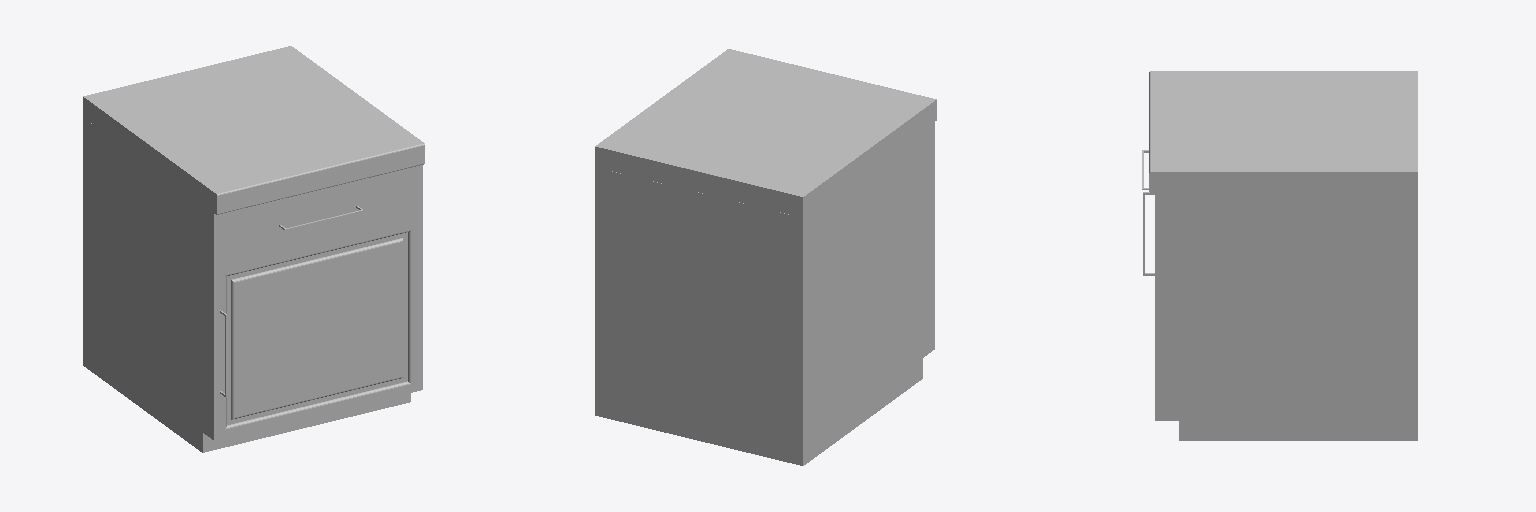
The model's file is Counter.obj.
The picture shows the model from 3 angles: view 1: azimuth 30°, elevation 25°; view 2: azimuth 150°, elevation 25°; view 3: azimuth 270°, elevation 25°; orthographic projection.
Visible parts, largest first — view 1: KitchenModular:Cabinet_Door4Cabinet, Cabinet, KitchenModular:CabinetKitchencabinet, KitchenModular:CabinetDrawDraw_door, KitchenModular:CabinetKitchencabinet2; view 2: KitchenModular:CabinetInsideCabinet3, Cabinet, KitchenModular:CabinetKitchencabinet, KitchenModular:CabinetKitchencabinet2; view 3: KitchenModular:CabinetKitchencabinet1, Cabinet, KitchenModular:CabinetKitchencabinet2, KitchenModular:CabinetInsideCabinet3, KitchenModular:Cabinet_Door4Cabinet.
Boxes of the visible parts, <box> form: KitchenModular:Cabinet_Door4Cabinet: <box>212,219,422,440</box>; Cabinet: <box>83,46,424,214</box>; KitchenModular:CabinetKitchencabinet: <box>85,119,211,438</box>; KitchenModular:CabinetDrawDraw_door: <box>212,165,422,269</box>; KitchenModular:CabinetKitchencabinet2: <box>85,347,410,452</box>; KitchenModular:CabinetInsideCabinet3: <box>595,167,805,465</box>; Cabinet: <box>595,49,936,217</box>; KitchenModular:CabinetKitchencabinet: <box>806,124,931,442</box>; KitchenModular:CabinetKitchencabinet2: <box>806,358,922,463</box>; KitchenModular:CabinetKitchencabinet1: <box>1160,193,1412,420</box>; Cabinet: <box>1149,71,1417,192</box>; KitchenModular:CabinetKitchencabinet2: <box>1179,421,1412,440</box>; KitchenModular:CabinetInsideCabinet3: <box>1413,193,1417,440</box>; KitchenModular:Cabinet_Door4Cabinet: <box>1155,249,1159,420</box>.
Bounding box in the file's own units: 4.12 × 5.09 × 4.72.